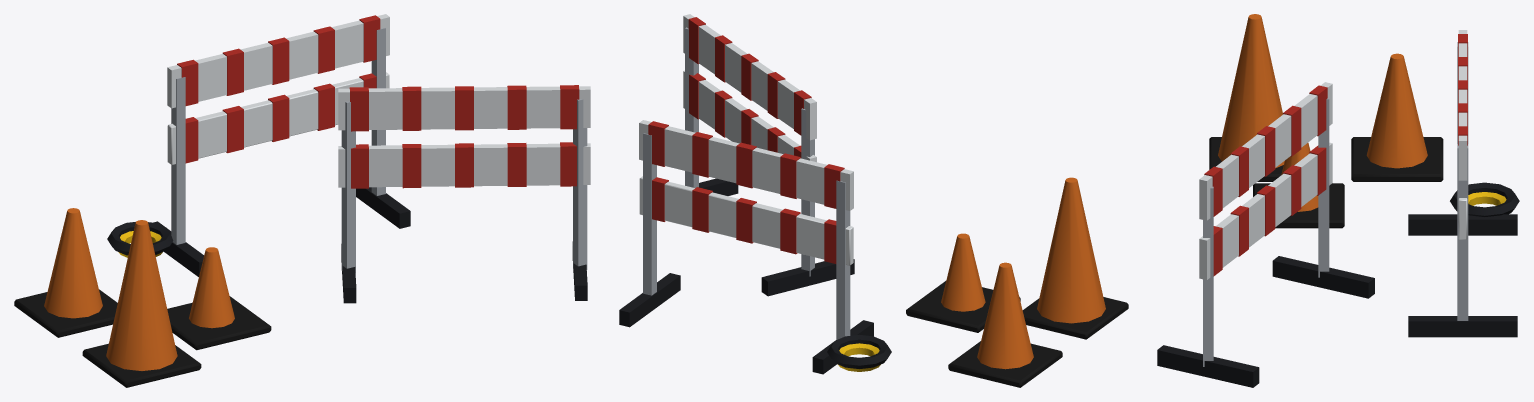
The model's file is hangartool_cones_and_barriers.glb.
3 renders of one model, left to right at view 1: azimuth 30°, elevation 25°; view 2: azimuth 150°, elevation 25°; view 3: azimuth 270°, elevation 25°, orthographic. The views are drawn at different scales.
Visible parts, largest first — view 1: hangartool_cones_and_barriers; view 2: hangartool_cones_and_barriers; view 3: hangartool_cones_and_barriers.
Boxes of the visible parts, x1,y1,x2,y2 form: hangartool_cones_and_barriers: [14, 14, 590, 387]; hangartool_cones_and_barriers: [619, 14, 1128, 387]; hangartool_cones_and_barriers: [1157, 14, 1519, 387].
Size of the model in its own units: 2.64 by 1 by 1.66.
